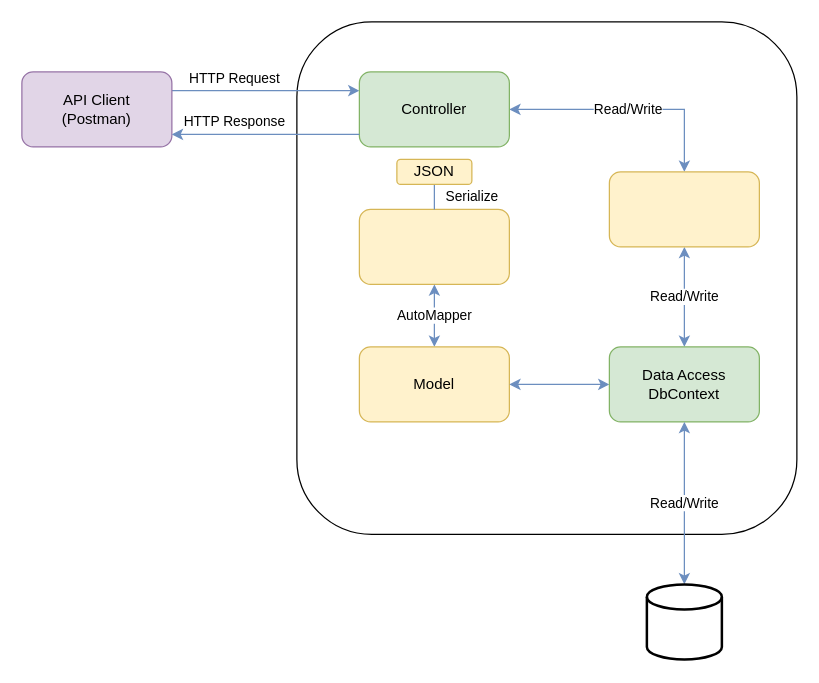
The diagram is 819 pixels wide and 683 high, and some of its shapes have lost their labels. Each missing label, with the box of its shape:
DTO: (358, 208, 509, 284)
Repository: (608, 171, 759, 247)
SQLite: (645, 582, 722, 660)
